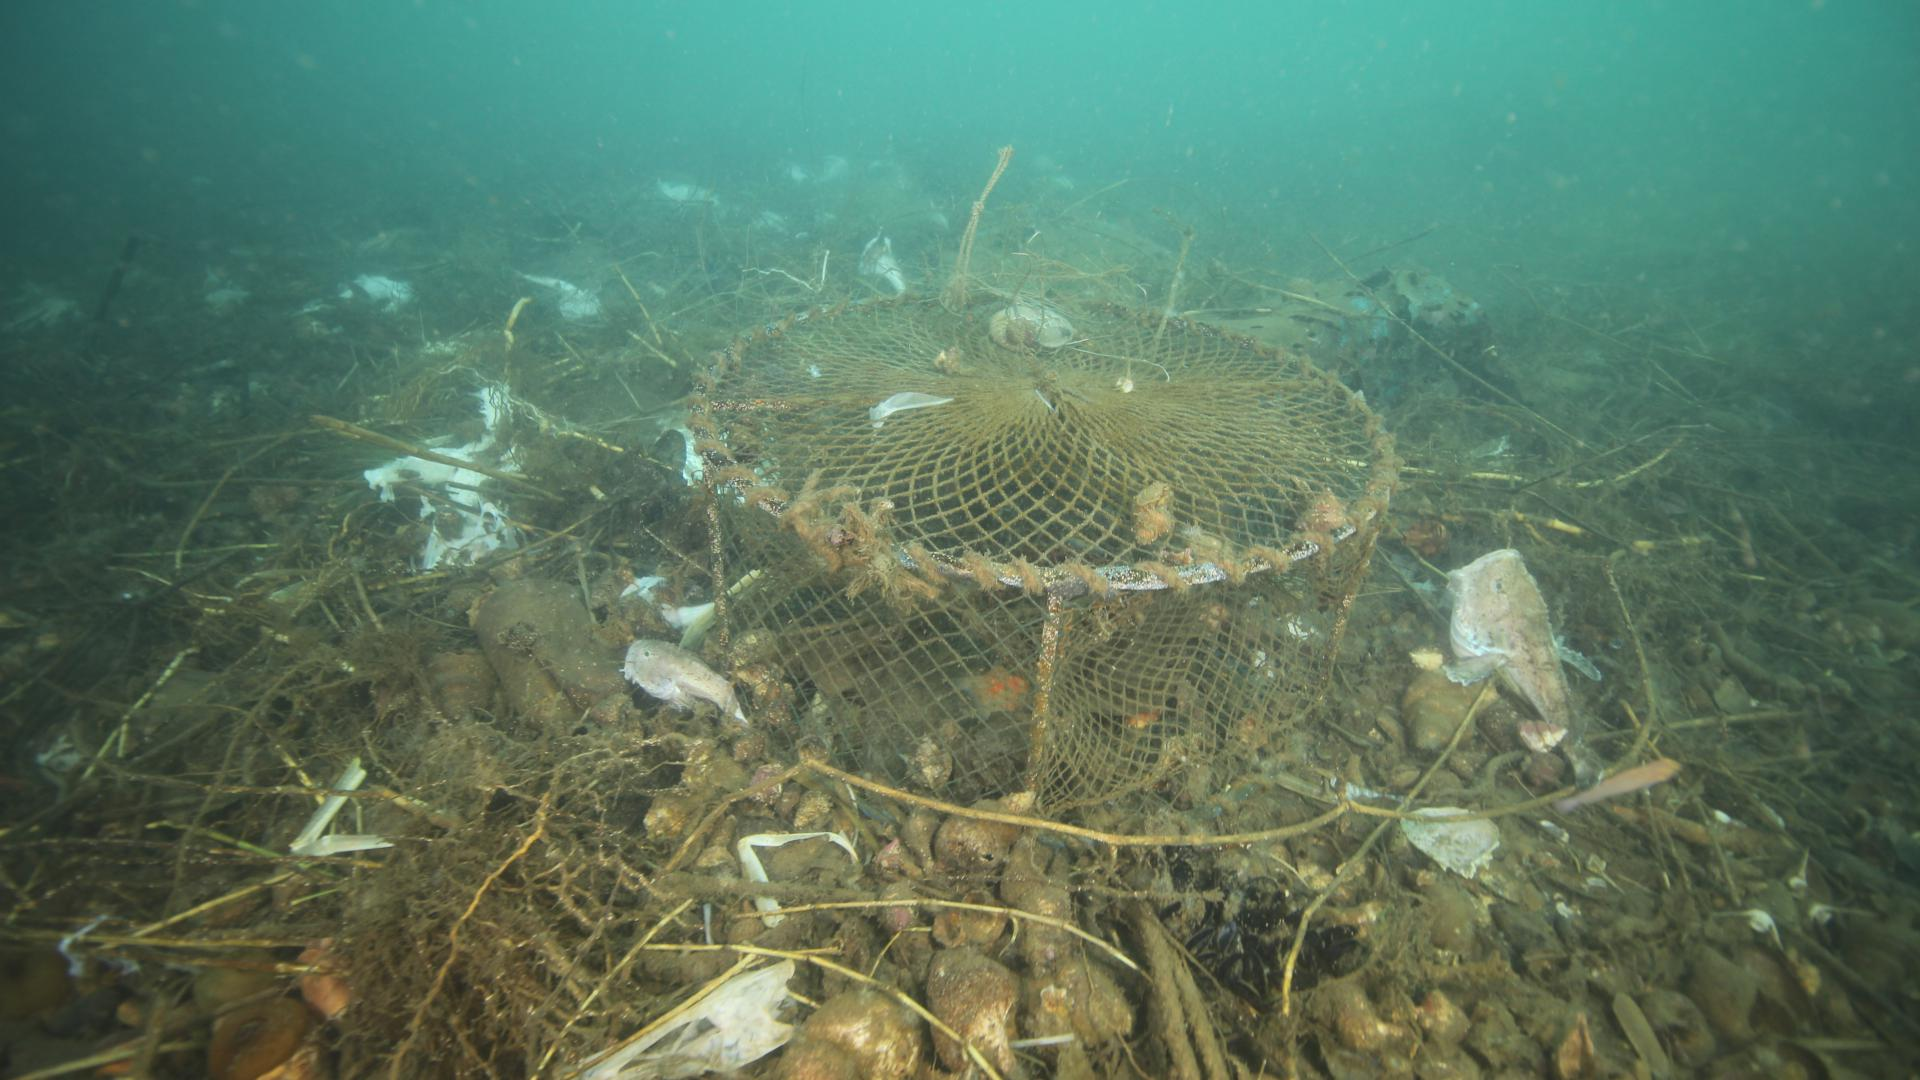bundle of ropes: (945, 153, 1013, 295)
circular fish trap: (684, 281, 1398, 816)
